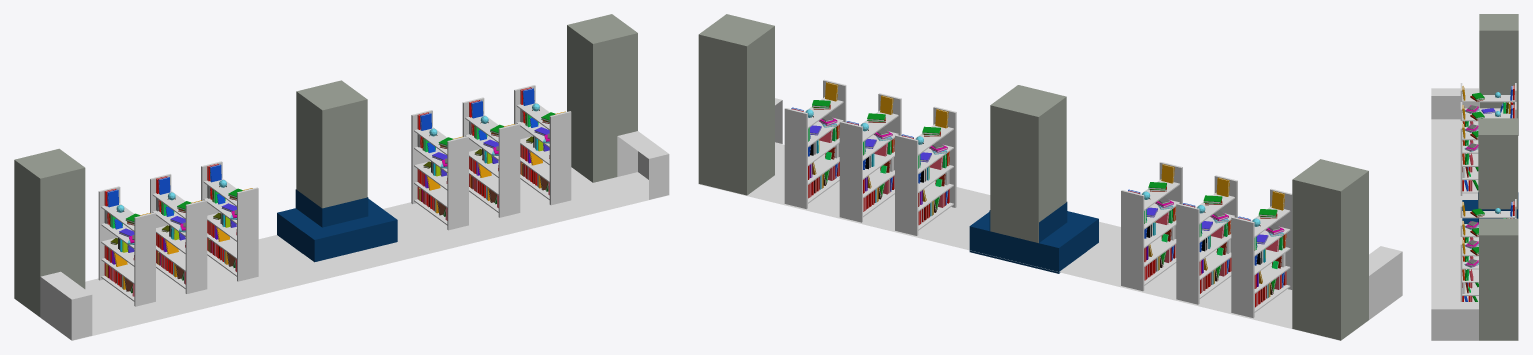
Rendered from Room.fbx.
3 renders of one model, left to right at view 1: azimuth 30°, elevation 25°; view 2: azimuth 150°, elevation 25°; view 3: azimuth 270°, elevation 25°, orthographic. The views are drawn at different scales.
Parts seen in each view (by area): view 1: Plane, Cube.001, Cube.019, Cube.008, Cube.007, Cube.006, Cube, Cube.009, Cube.010; view 2: Cube.001, Cube.019, Cube.007, Cube.008, Cube.006, Plane, Cube, Cube.010; view 3: Plane, Cube.008, Cube.006, Cube.007, Cube.019, Cube.001, Cube.009, Cube.010, Cube.
Boxes of the visible parts, x1,y1,x2,y2 form: Plane: (19, 167, 669, 340); Cube.001: (411, 85, 571, 230); Cube.019: (98, 161, 258, 306); Cube.008: (567, 14, 637, 182); Cube.007: (14, 148, 85, 316); Cube.006: (296, 80, 367, 208); Cube: (277, 189, 397, 262); Cube.009: (617, 131, 669, 199); Cube.010: (40, 271, 92, 340); Cube.001: (784, 79, 956, 235); Cube.019: (1121, 162, 1292, 318); Cube.007: (1292, 159, 1368, 340); Cube.008: (698, 14, 774, 195); Cube.006: (990, 85, 1066, 242); Plane: (698, 144, 1371, 340); Cube: (969, 202, 1098, 273); Cube.010: (1369, 246, 1402, 319); Plane: (1431, 127, 1518, 340); Cube.008: (1479, 218, 1518, 340); Cube.006: (1478, 118, 1517, 209); Cube.007: (1479, 14, 1518, 135); Cube.019: (1460, 83, 1516, 195); Cube.001: (1460, 199, 1516, 301); Cube.009: (1431, 302, 1478, 340); Cube.010: (1431, 88, 1478, 126); Cube: (1462, 192, 1518, 223).
Bounding box in the file's own units: 5828 × 1314 × 973.
